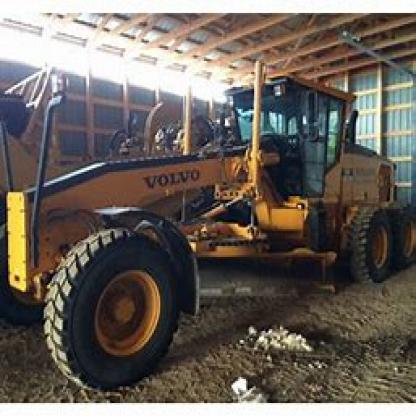bull_dozer/loader/grader: (0, 57, 414, 380)
